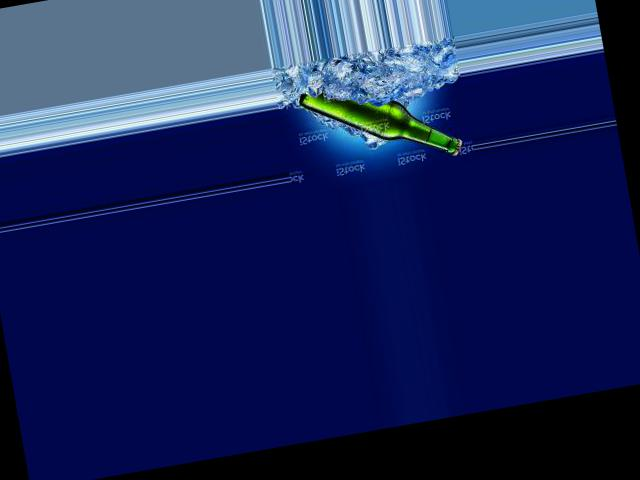beer: (298, 67, 466, 180)
